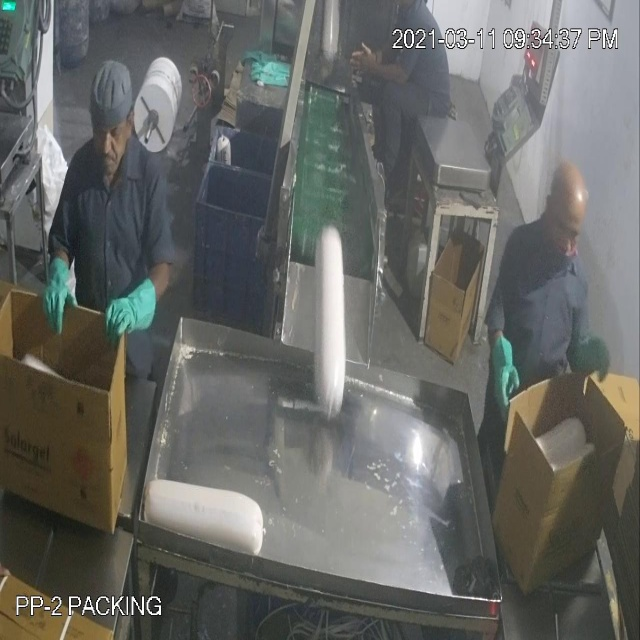Guantes: (482, 324, 535, 444), (566, 324, 611, 388)
Sin_guantes: (350, 48, 416, 99)
